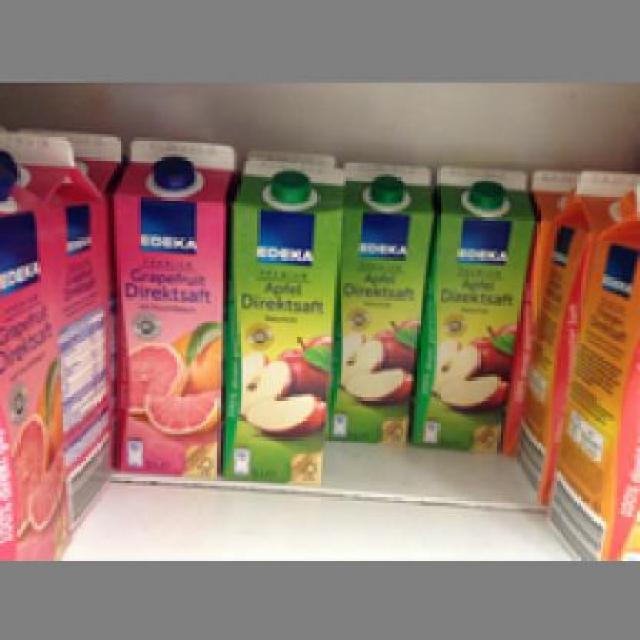Juice: (221, 154, 345, 483), (109, 134, 228, 472), (412, 162, 534, 448), (328, 160, 434, 443)
